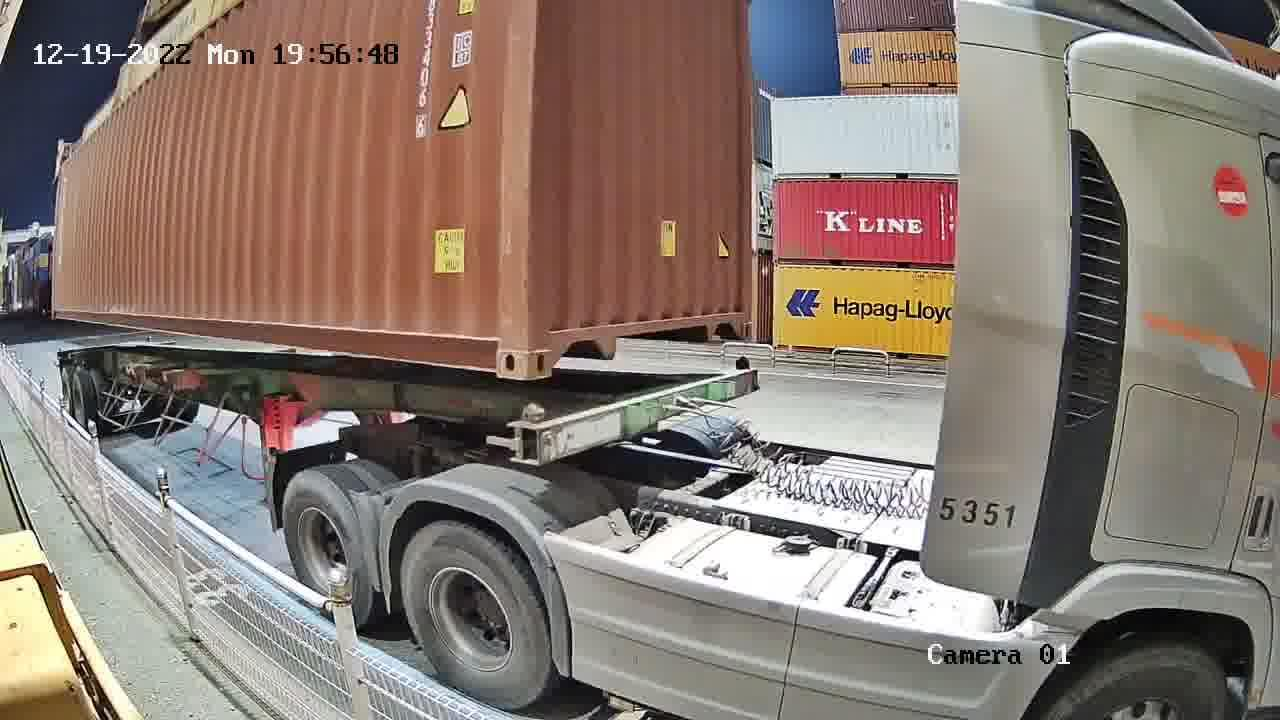Chassis: (514, 367, 758, 467)
Cone: (514, 402, 544, 461), (731, 354, 749, 372)
Hole_L: (528, 320, 578, 379)
Hole_R: (464, 316, 527, 384), (725, 294, 753, 338)
Tire: (400, 525, 551, 707), (283, 473, 369, 627)
